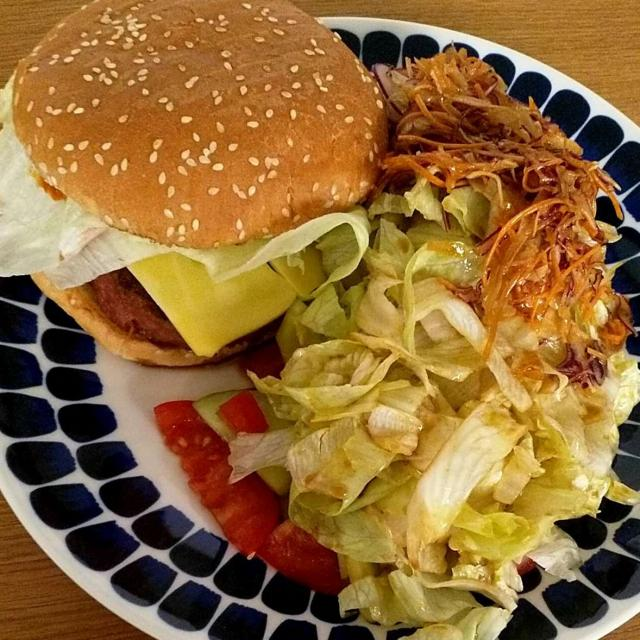bread-meat-substitute-lettuce-sauce: (6, 11, 398, 370)
carrot-raw: (410, 62, 633, 362)
faux-mage-cashew-vegan-chers: (100, 230, 329, 344)
salad-leaf-salad-green: (220, 171, 622, 635)
tomato-stewed-without-addition-of-fat-without-addition-of-salt: (174, 400, 327, 582)
